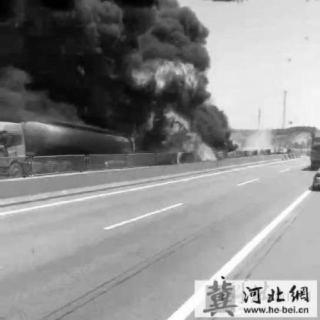Fire: (129, 60, 219, 162)
Smoke: (2, 1, 232, 133)
